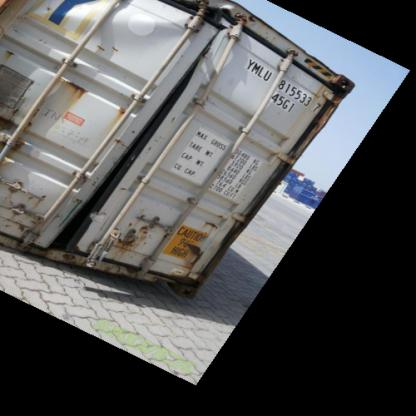Damage: (259, 51, 360, 114), (0, 161, 57, 247), (50, 58, 112, 124), (173, 199, 218, 277), (112, 216, 162, 265)
